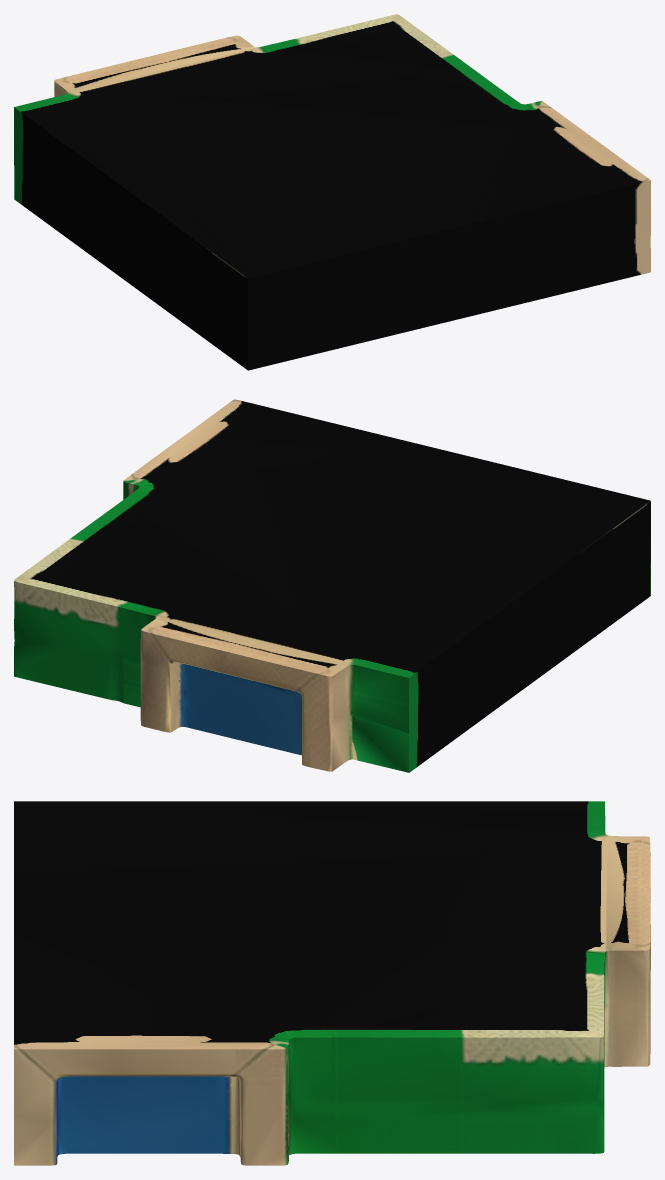
File: 12-roof-back-right.fbx
The picture shows the model from 3 angles, top to bottom: view 1: azimuth 30°, elevation 25°; view 2: azimuth 150°, elevation 25°; view 3: azimuth 270°, elevation 25°; orthographic projection. The views are drawn at different scales.
Parts seen in each view (by area): view 1: roof-back-right; view 2: roof-back-right; view 3: roof-back-right.
Boxes of the visible parts, left/top/right/bottom form: roof-back-right: left=14, top=14, right=650, bottom=370; roof-back-right: left=14, top=399, right=650, bottom=772; roof-back-right: left=14, top=801, right=650, bottom=1165.
Size of the model in its own units: 3731 by 815 by 4048.
1 material, 1 textured.
